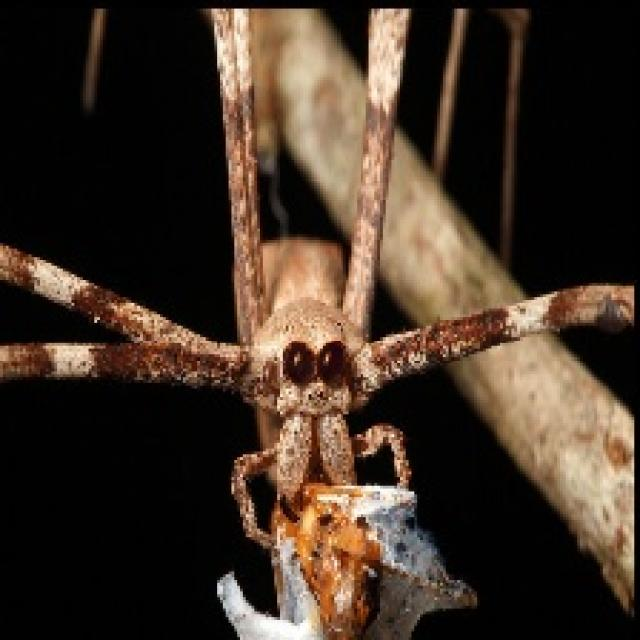Non venomous spider: (4, 4, 638, 640)
